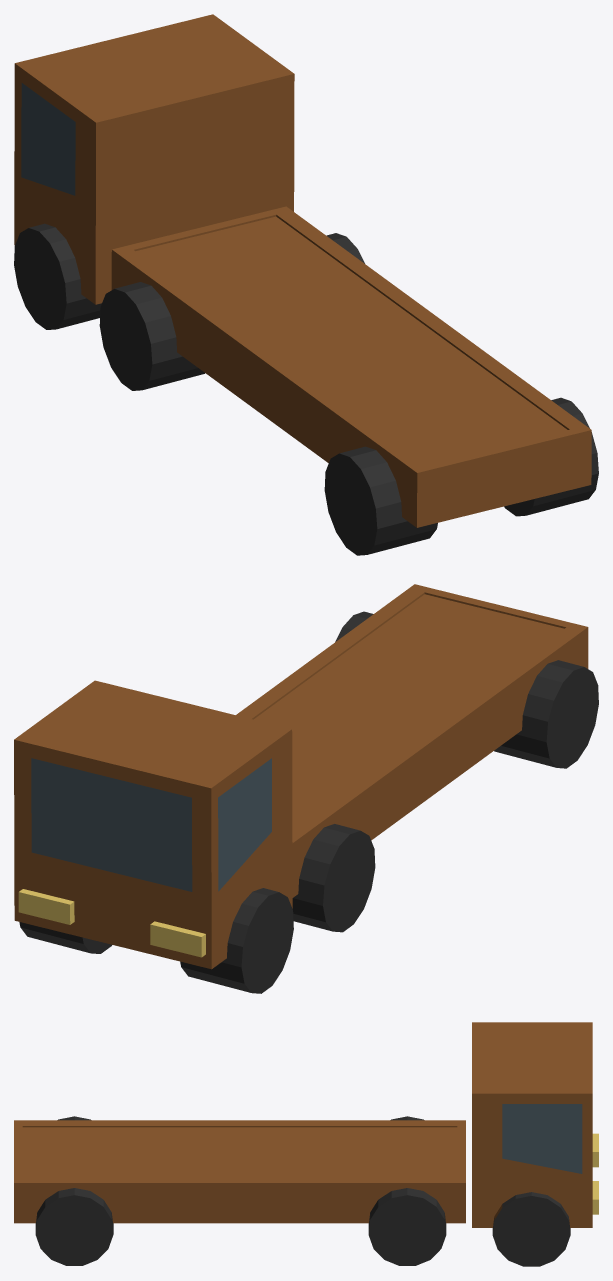
File: LKW_with_material.glb
3 views of the same model, one above another, from view 1: azimuth 30°, elevation 25°; view 2: azimuth 150°, elevation 25°; view 3: azimuth 270°, elevation 25° (orthographic). The views are drawn at different scales.
Visible parts, largest first — view 1: truck; view 2: truck; view 3: truck.
Boxes of the visible parts, x1,y1,x2,y2 form: truck: [14, 14, 598, 555]; truck: [14, 584, 598, 993]; truck: [14, 1022, 598, 1266].
Size of the model in its own units: 2.31 by 2.23 by 6.96.
